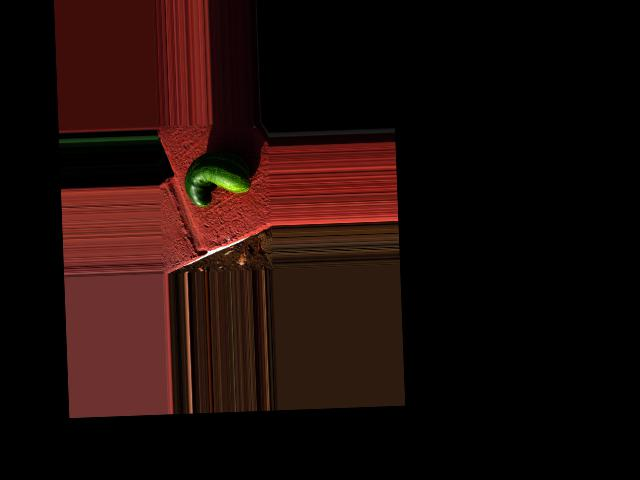cucumber: (183, 150, 251, 208)
